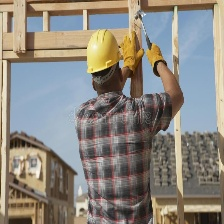helmet: (85, 27, 124, 76)
no-vest: (74, 88, 174, 224)
person: (74, 27, 184, 224)
